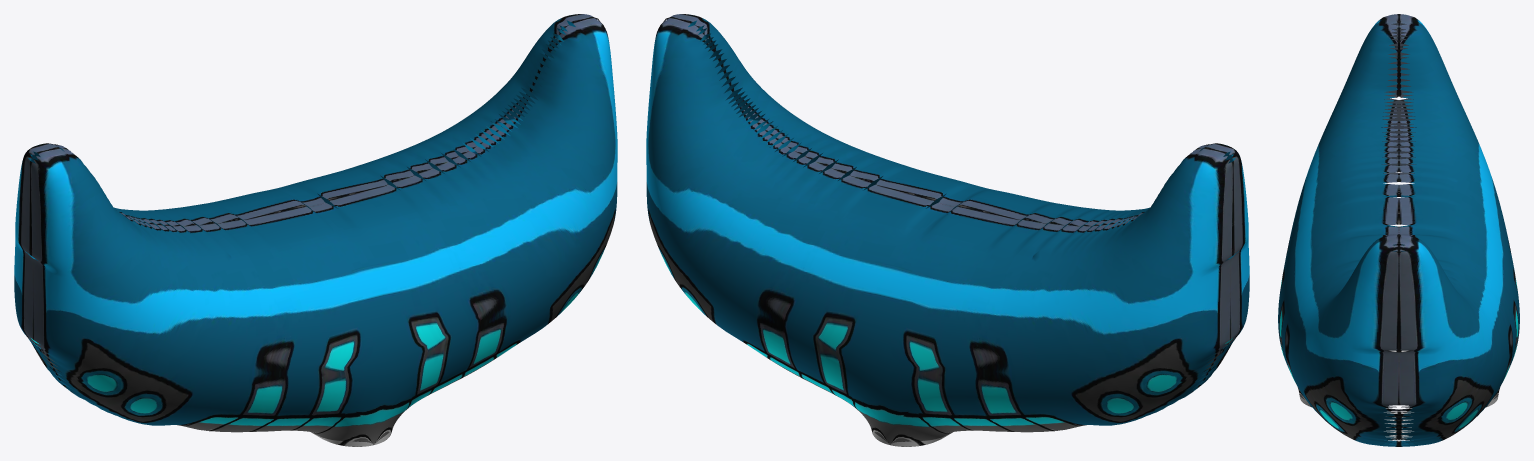
File: front_bulkhead.glb
The picture shows the model from 3 angles, left to right: view 1: azimuth 30°, elevation 25°; view 2: azimuth 150°, elevation 25°; view 3: azimuth 270°, elevation 25°; orthographic projection. The views are drawn at different scales.
Parts seen in each view (by area): view 1: front_bulkhead; view 2: front_bulkhead; view 3: front_bulkhead.
Boxes of the visible parts, x1,y1,x2,y2 form: front_bulkhead: [14, 14, 617, 446]; front_bulkhead: [646, 14, 1249, 446]; front_bulkhead: [1278, 14, 1519, 446].
Size of the model in its own units: 0.989 by 0.5262 by 0.429.
Materials: 1 (1 with a texture image).
